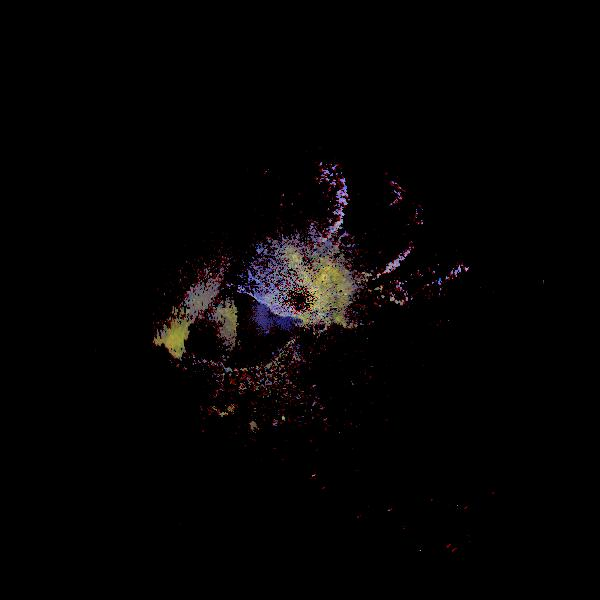roost: (281, 139, 446, 304), (216, 122, 372, 278), (98, 299, 194, 395)
